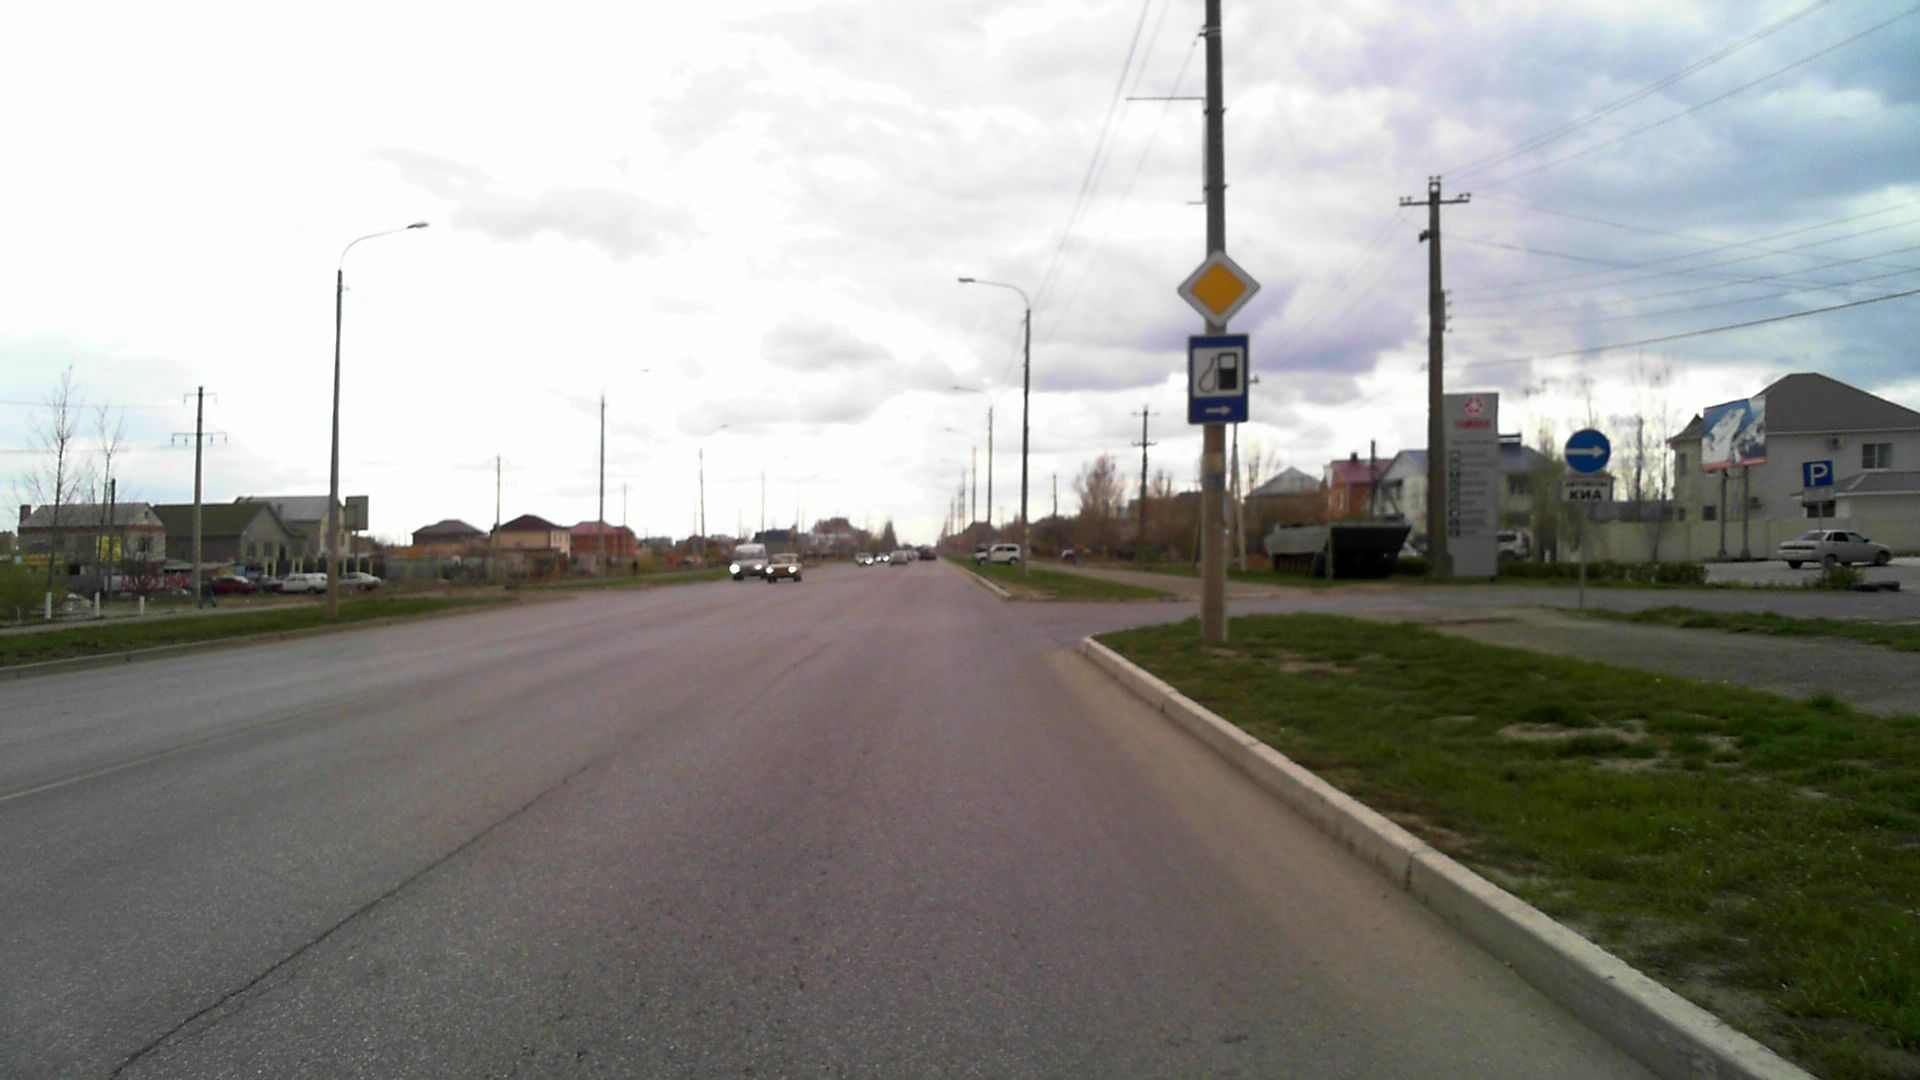Turn Right: (1564, 429, 1611, 473)
